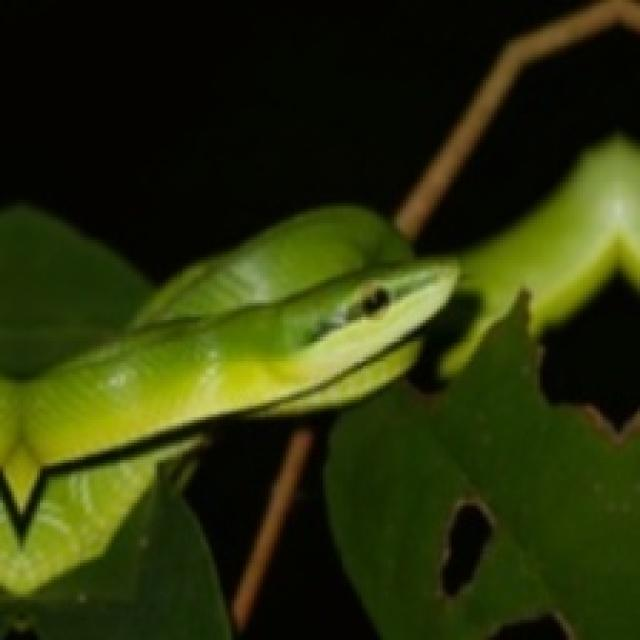red-tailed green ratsnake: (0, 206, 457, 540)
